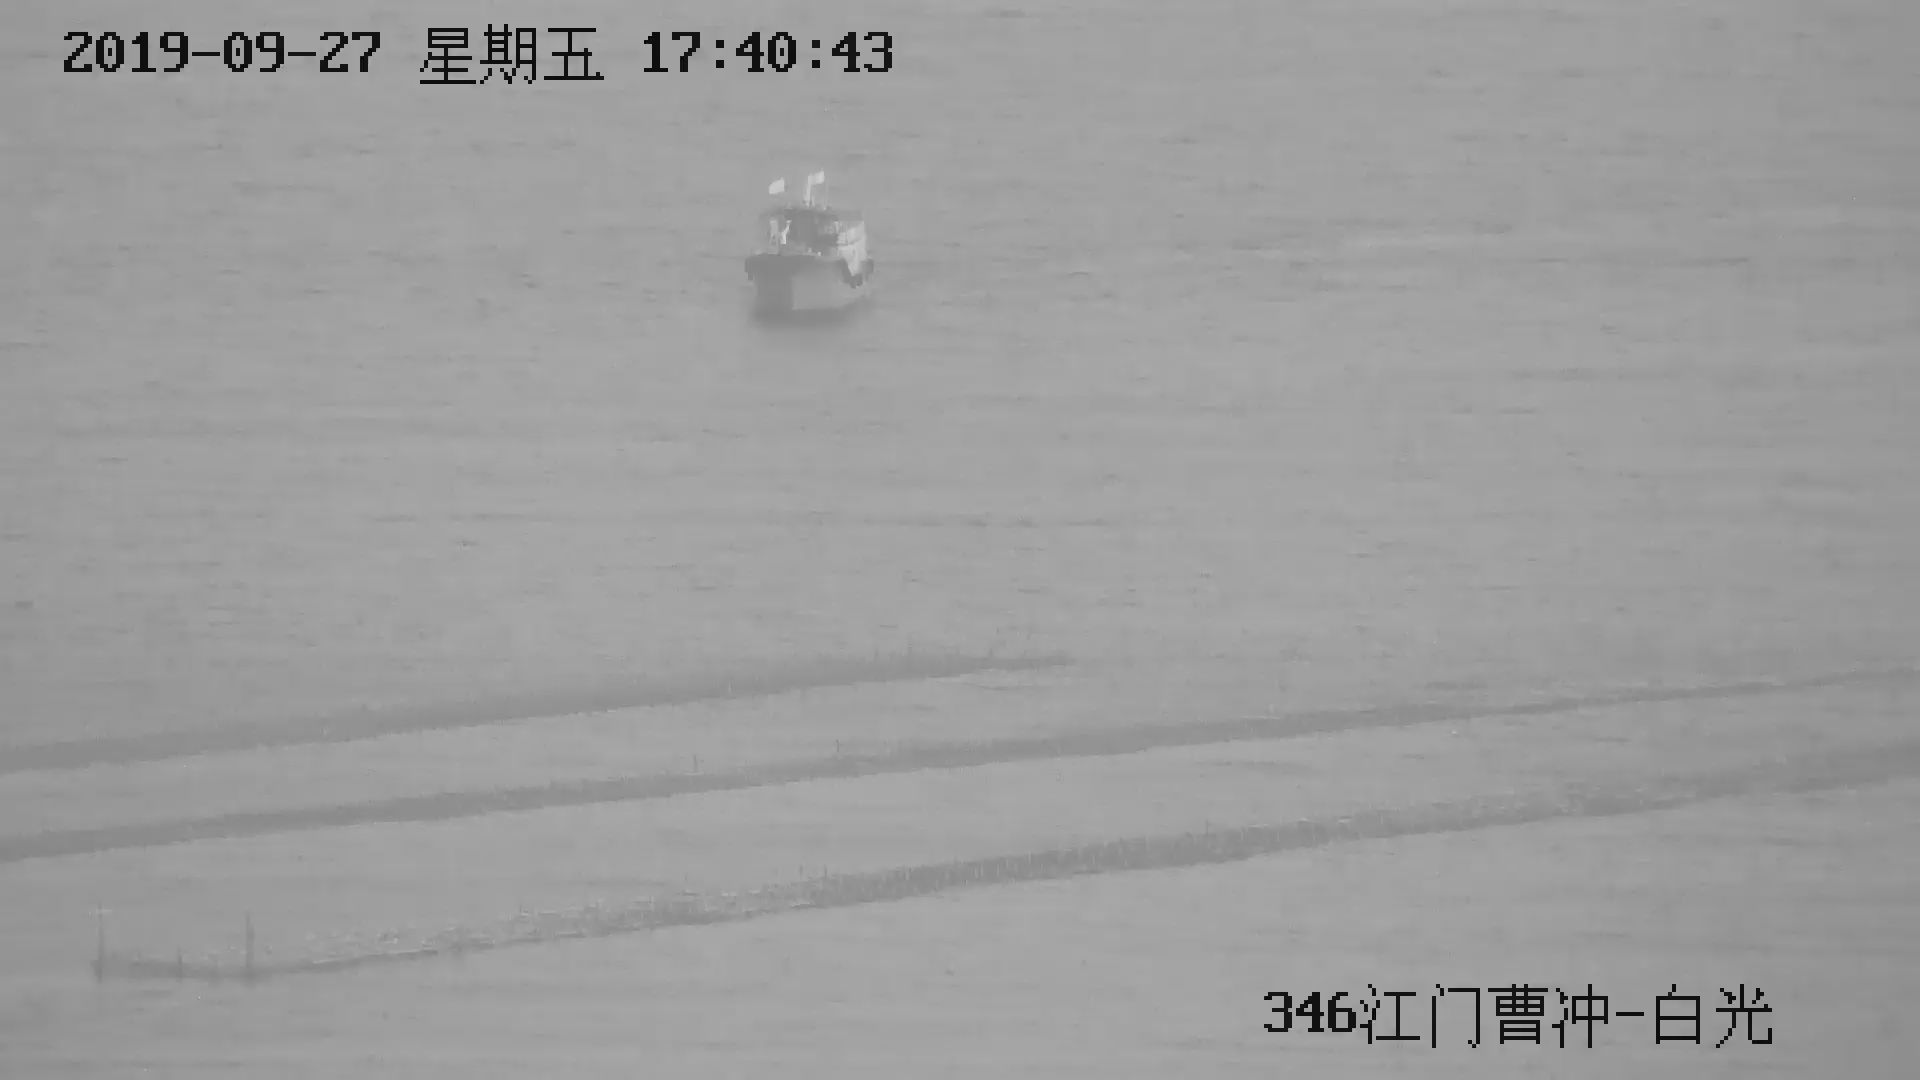ship: (746, 173, 876, 320)
